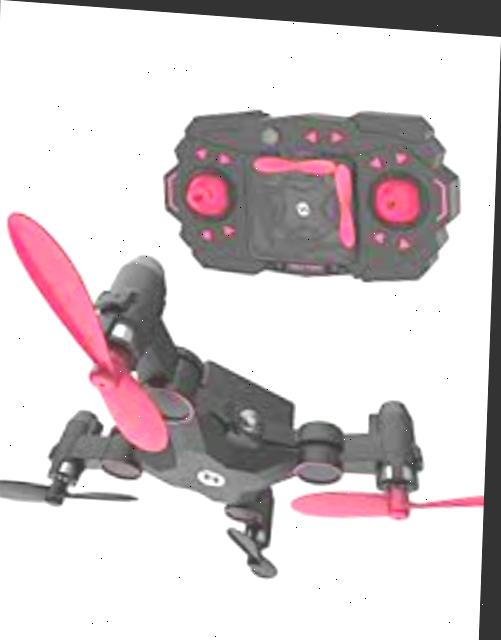drone: (0, 212, 463, 600)
